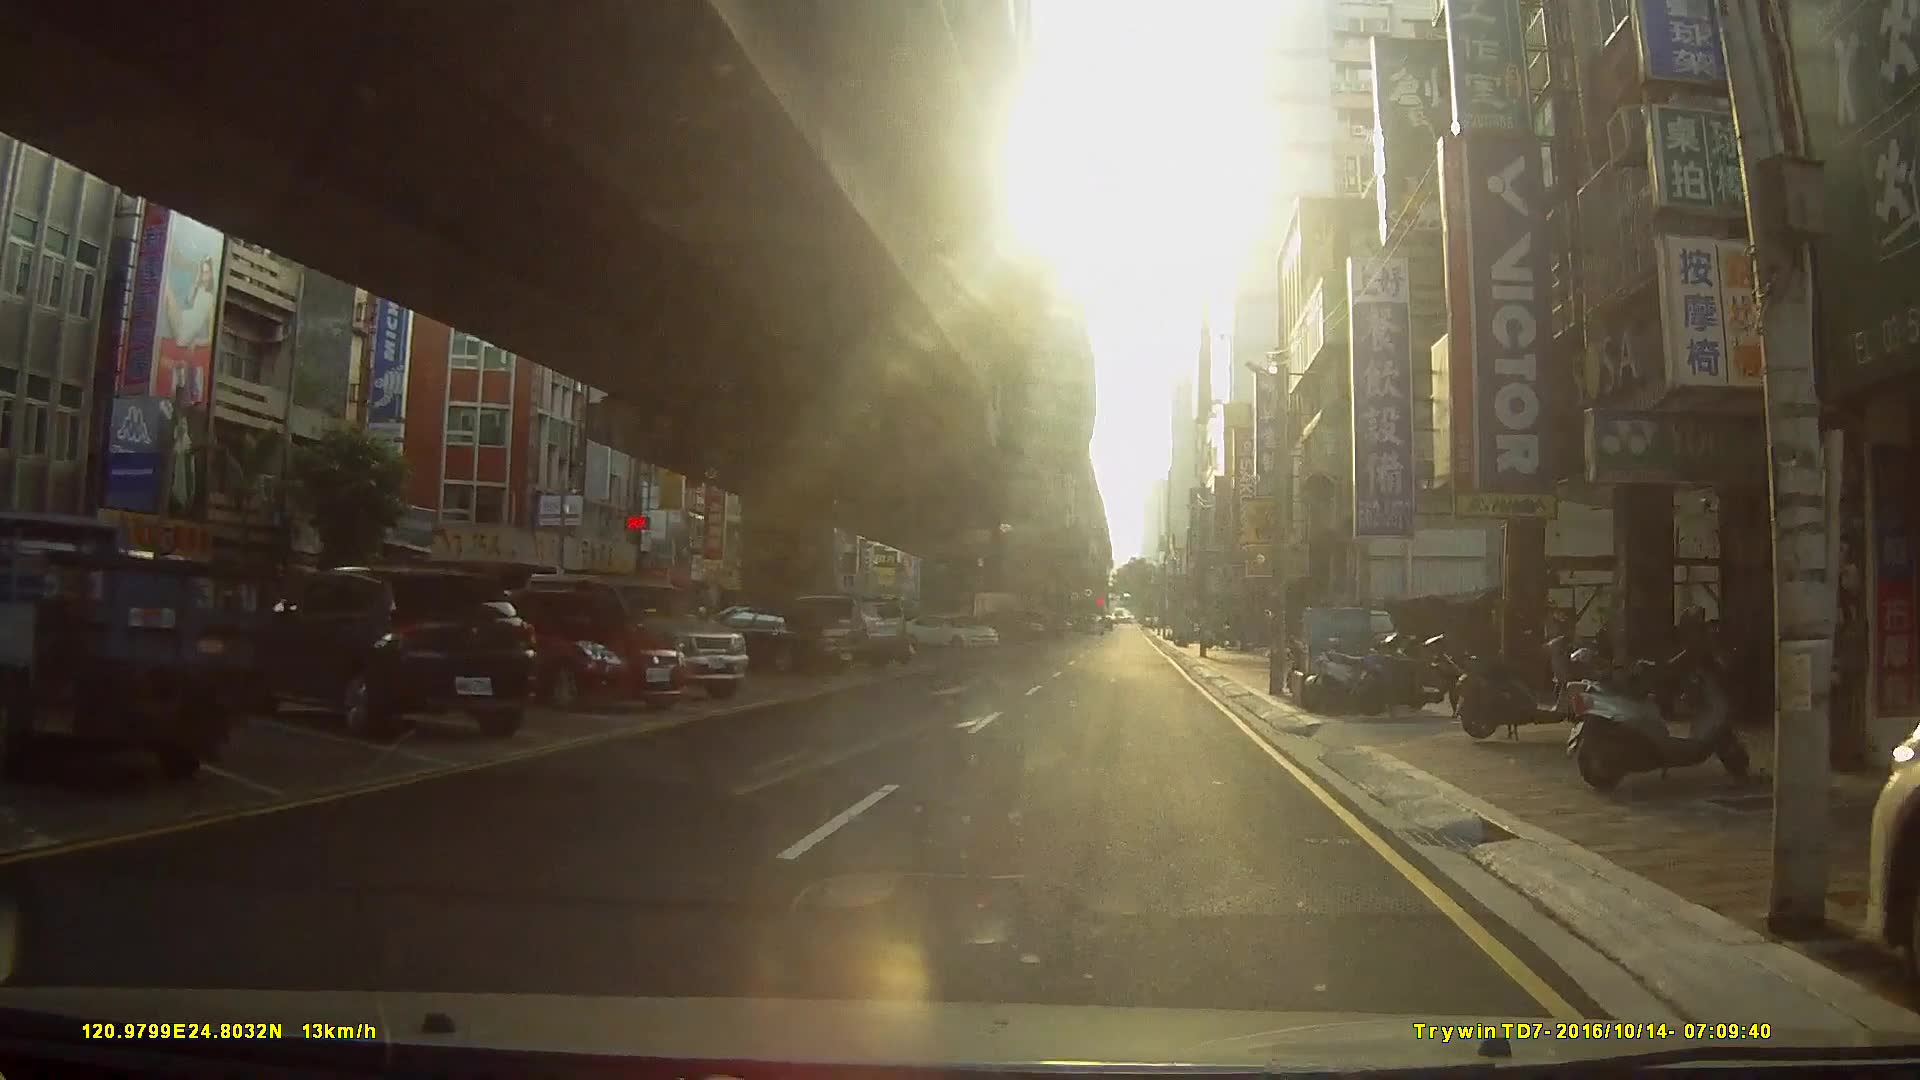vehicle: (0, 508, 274, 785), (251, 568, 531, 740), (518, 568, 749, 703), (475, 584, 688, 713), (682, 604, 857, 676), (764, 593, 910, 669), (903, 613, 1000, 654)
